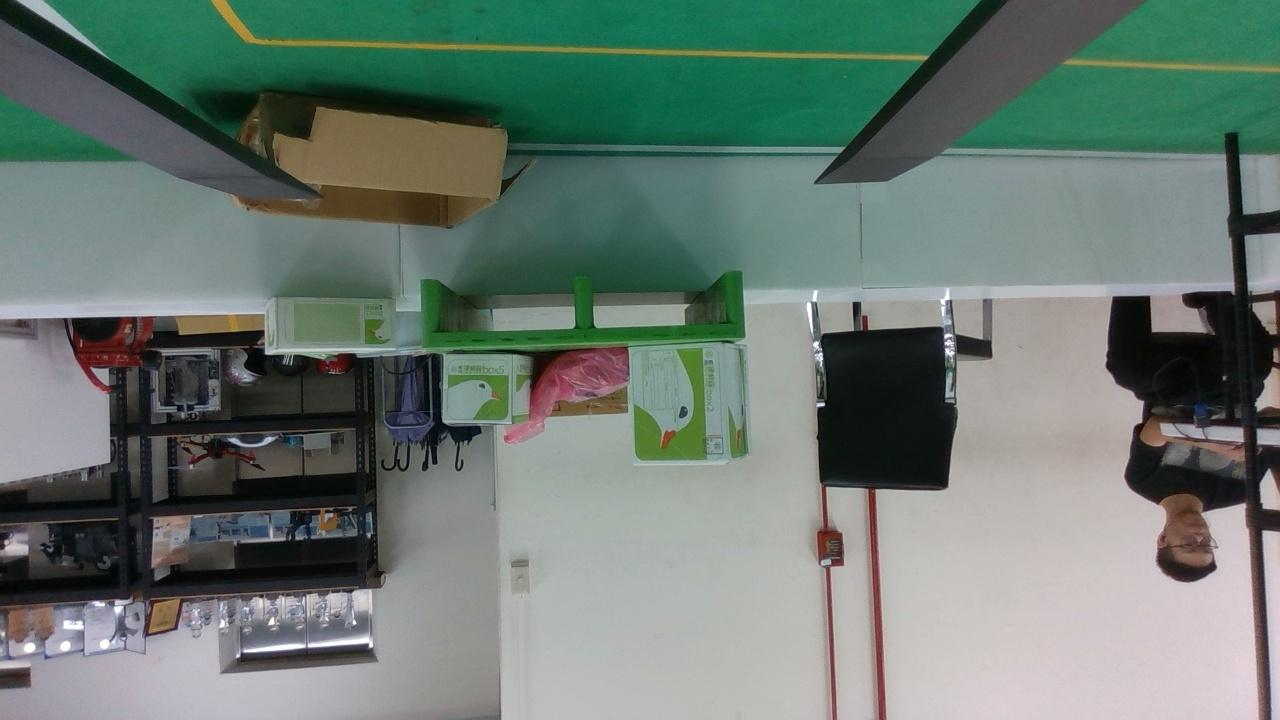Pallet: (420, 274, 743, 348)
